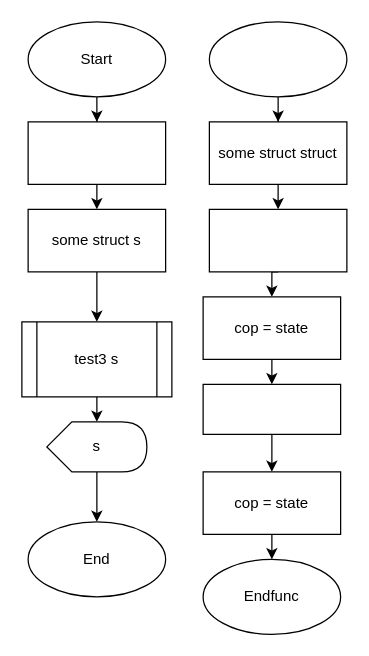
Image size: 369x656. Some labels were removed from this diagram. Each missing label, with the box of its shape:
cop=12: (202, 383, 341, 434)
some struct: (27, 121, 166, 184)
some struct cop: (208, 208, 347, 272)
test3: (208, 21, 347, 97)
